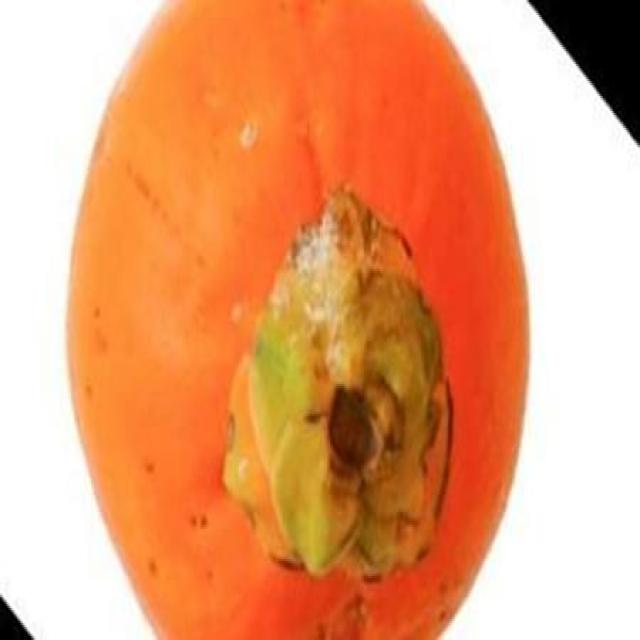good: (63, 0, 536, 638)
